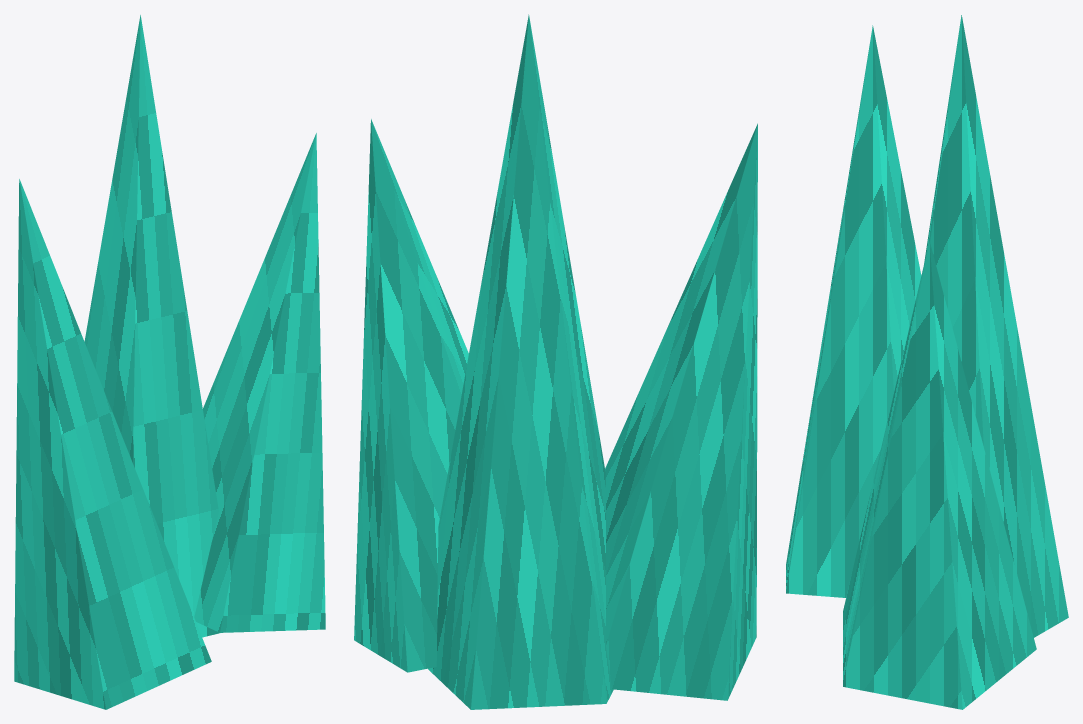
The model's file is crystal_53.glb.
3 views of the same model, side by side, from view 1: azimuth 30°, elevation 25°; view 2: azimuth 150°, elevation 25°; view 3: azimuth 270°, elevation 25° (orthographic). The views are drawn at different scales.
Parts seen in each view (by area): view 1: Jade, Jade.002, Jade.001; view 2: Jade.001, Jade, Jade.002; view 3: Jade.002, Jade, Jade.001.
Part boxes in pixels (x1=…): Jade: x1=14, y1=179, x2=211, y2=709; Jade.002: x1=194, y1=133, x2=325, y2=632; Jade.001: x1=84, y1=15, x2=219, y2=637; Jade.001: x1=428, y1=14, x2=613, y2=709; Jade: x1=605, y1=123, x2=757, y2=700; Jade.002: x1=354, y1=119, x2=468, y2=672; Jade.002: x1=843, y1=241, x2=1036, y2=709; Jade: x1=786, y1=25, x2=921, y2=597; Jade.001: x1=924, y1=15, x2=1068, y2=637.
Bounding box in the file's own units: 0.7797 × 1.4 × 0.5802.
Materials: 1 (1 with a texture image).
